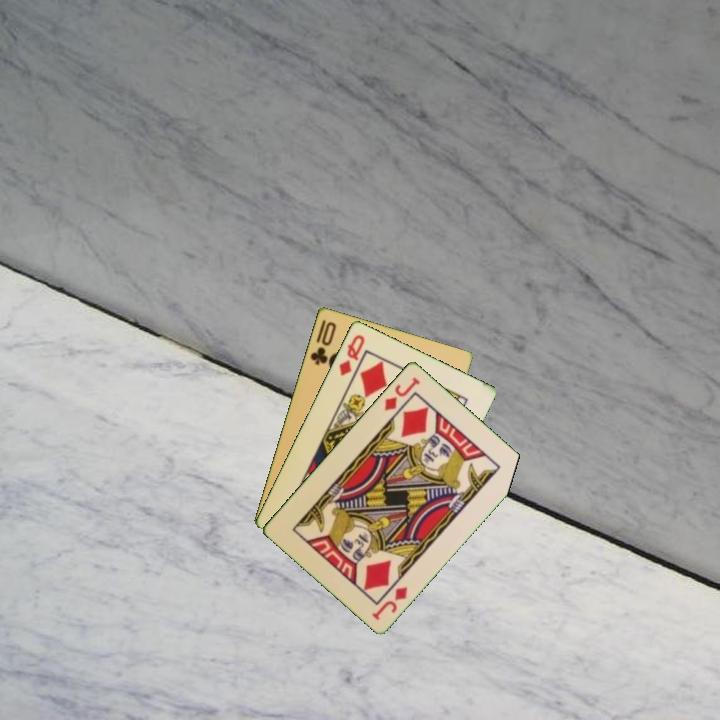10c: (307, 318, 339, 367)
Jd: (381, 373, 423, 413), (368, 583, 411, 622)
Qd: (335, 331, 368, 379)
